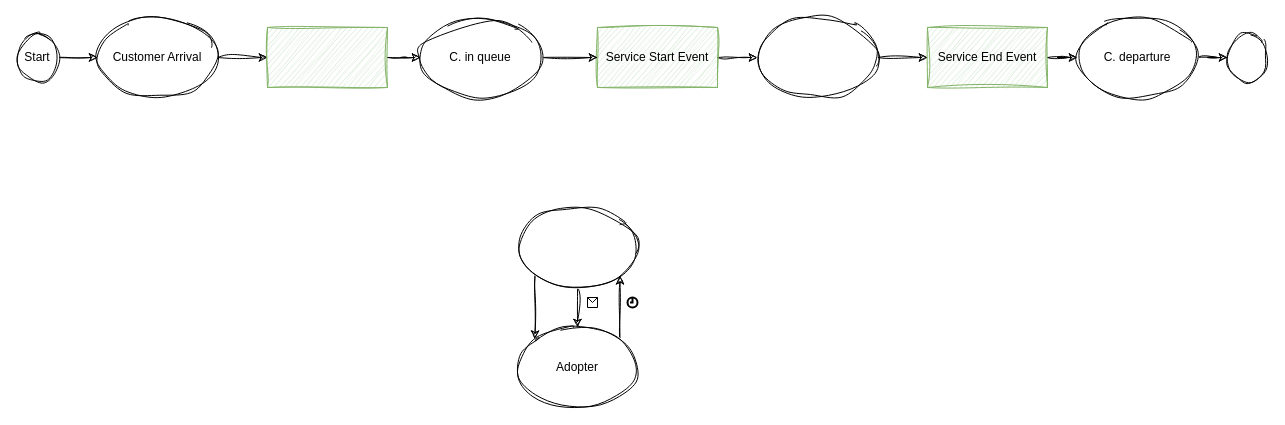
Some shapes in this 1285 by 425 pixel diagram are drawn without their labels. The centre of each missing label's shape, as x and y in pixels:
"C. being served" belongs at point 817,57.
"CA Event" belongs at point 327,57.
"End" belongs at point 1247,57.
"potential Adopter" belongs at point 577,247.
